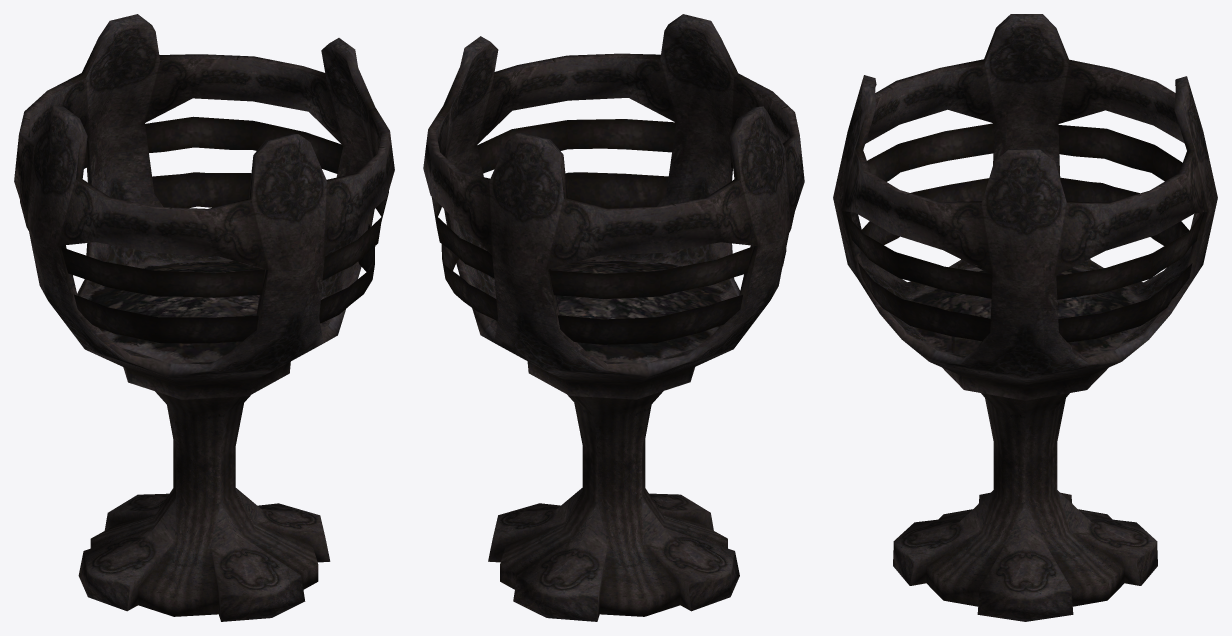
The model's file is bridge_torch.dae.
3 views of the same model, side by side, from view 1: azimuth 30°, elevation 25°; view 2: azimuth 150°, elevation 25°; view 3: azimuth 270°, elevation 25° (orthographic).
Parts seen in each view (by area): view 1: polySurface11, polySurface20, polySurface22, polySurface26, polySurface21; view 2: polySurface11, polySurface19, polySurface21, polySurface22, polySurface25; view 3: polySurface11, polySurface21, polySurface22, polySurface19, polySurface20, polySurface24, polySurface23.
Part boxes in pixels (x1,y1,x2,y2): polySurface11: [14, 14, 394, 621]; polySurface20: [61, 247, 264, 343]; polySurface22: [145, 116, 343, 207]; polySurface26: [145, 117, 342, 207]; polySurface21: [319, 191, 388, 323]; polySurface11: [423, 14, 804, 621]; polySurface19: [549, 247, 752, 344]; polySurface21: [477, 119, 675, 208]; polySurface22: [431, 197, 497, 321]; polySurface25: [478, 119, 674, 207]; polySurface11: [833, 14, 1217, 621]; polySurface21: [844, 213, 992, 341]; polySurface22: [1056, 214, 1201, 342]; polySurface19: [1058, 125, 1189, 266]; polySurface20: [862, 123, 994, 244]; polySurface24: [862, 124, 993, 244]; polySurface23: [1059, 125, 1187, 265].
Bounding box in the file's own units: 0.7 × 0.9706 × 0.7.
